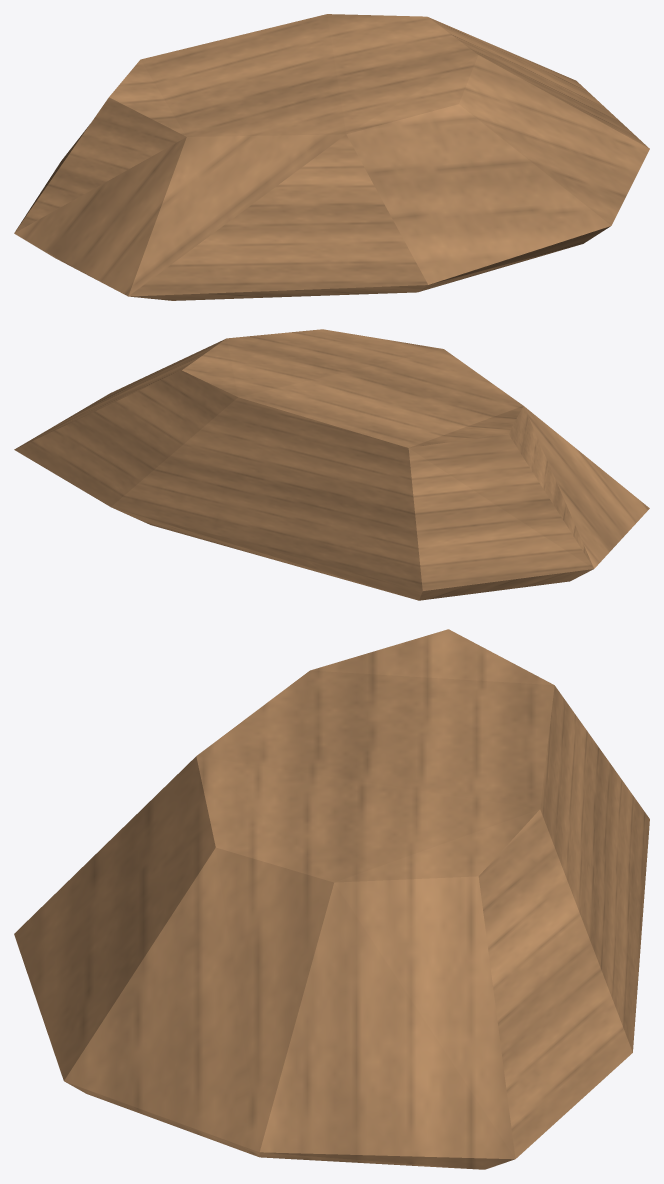
Rendered from outcrop_sandstone_terrace.glb.
3 renders of one model, top to bottom at view 1: azimuth 30°, elevation 25°; view 2: azimuth 150°, elevation 25°; view 3: azimuth 270°, elevation 25°, orthographic. The views are drawn at different scales.
Visible parts, largest first — view 1: outcrop_sandstone_terrace; view 2: outcrop_sandstone_terrace; view 3: outcrop_sandstone_terrace.
Boxes of the visible parts, x1,y1,x2,y2 form: outcrop_sandstone_terrace: (14,14,649,300); outcrop_sandstone_terrace: (14,329,649,600); outcrop_sandstone_terrace: (14,629,649,1169).
Size of the model in its own units: 3.03 by 0.71 by 1.94.
Materials: 1 (1 with a texture image).
